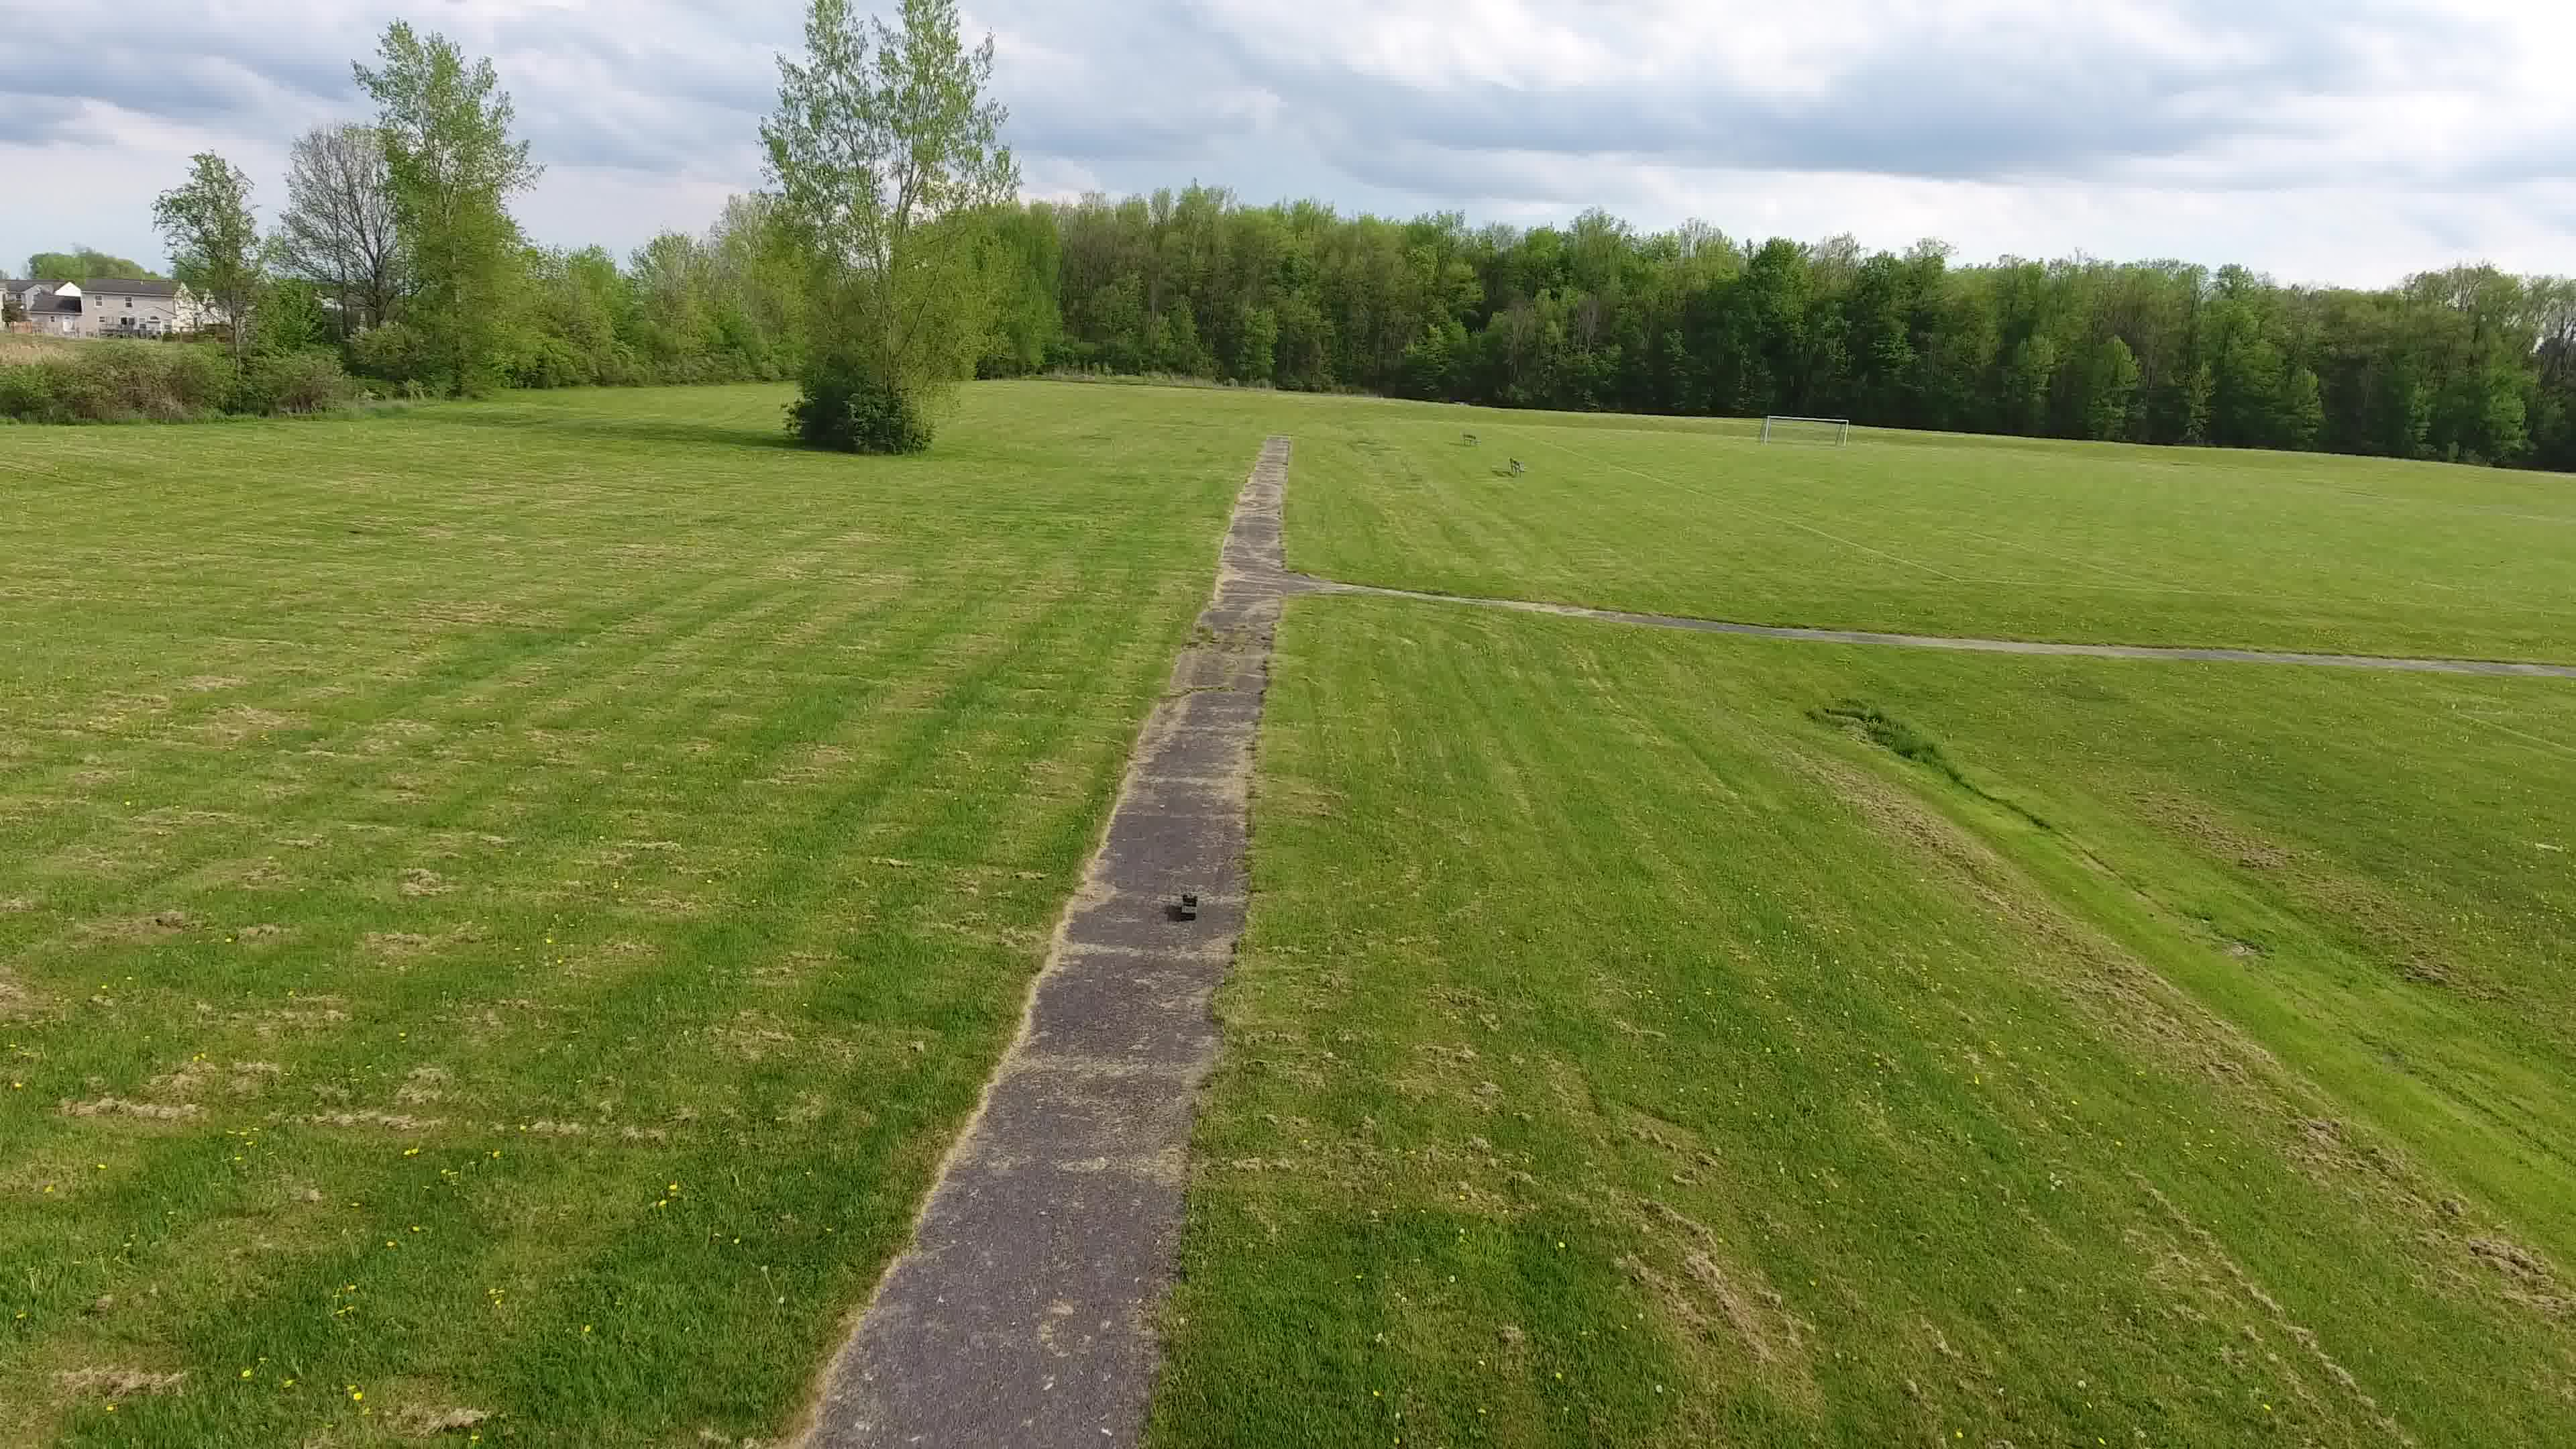transporter9_camo: (1178, 893, 1198, 922)
